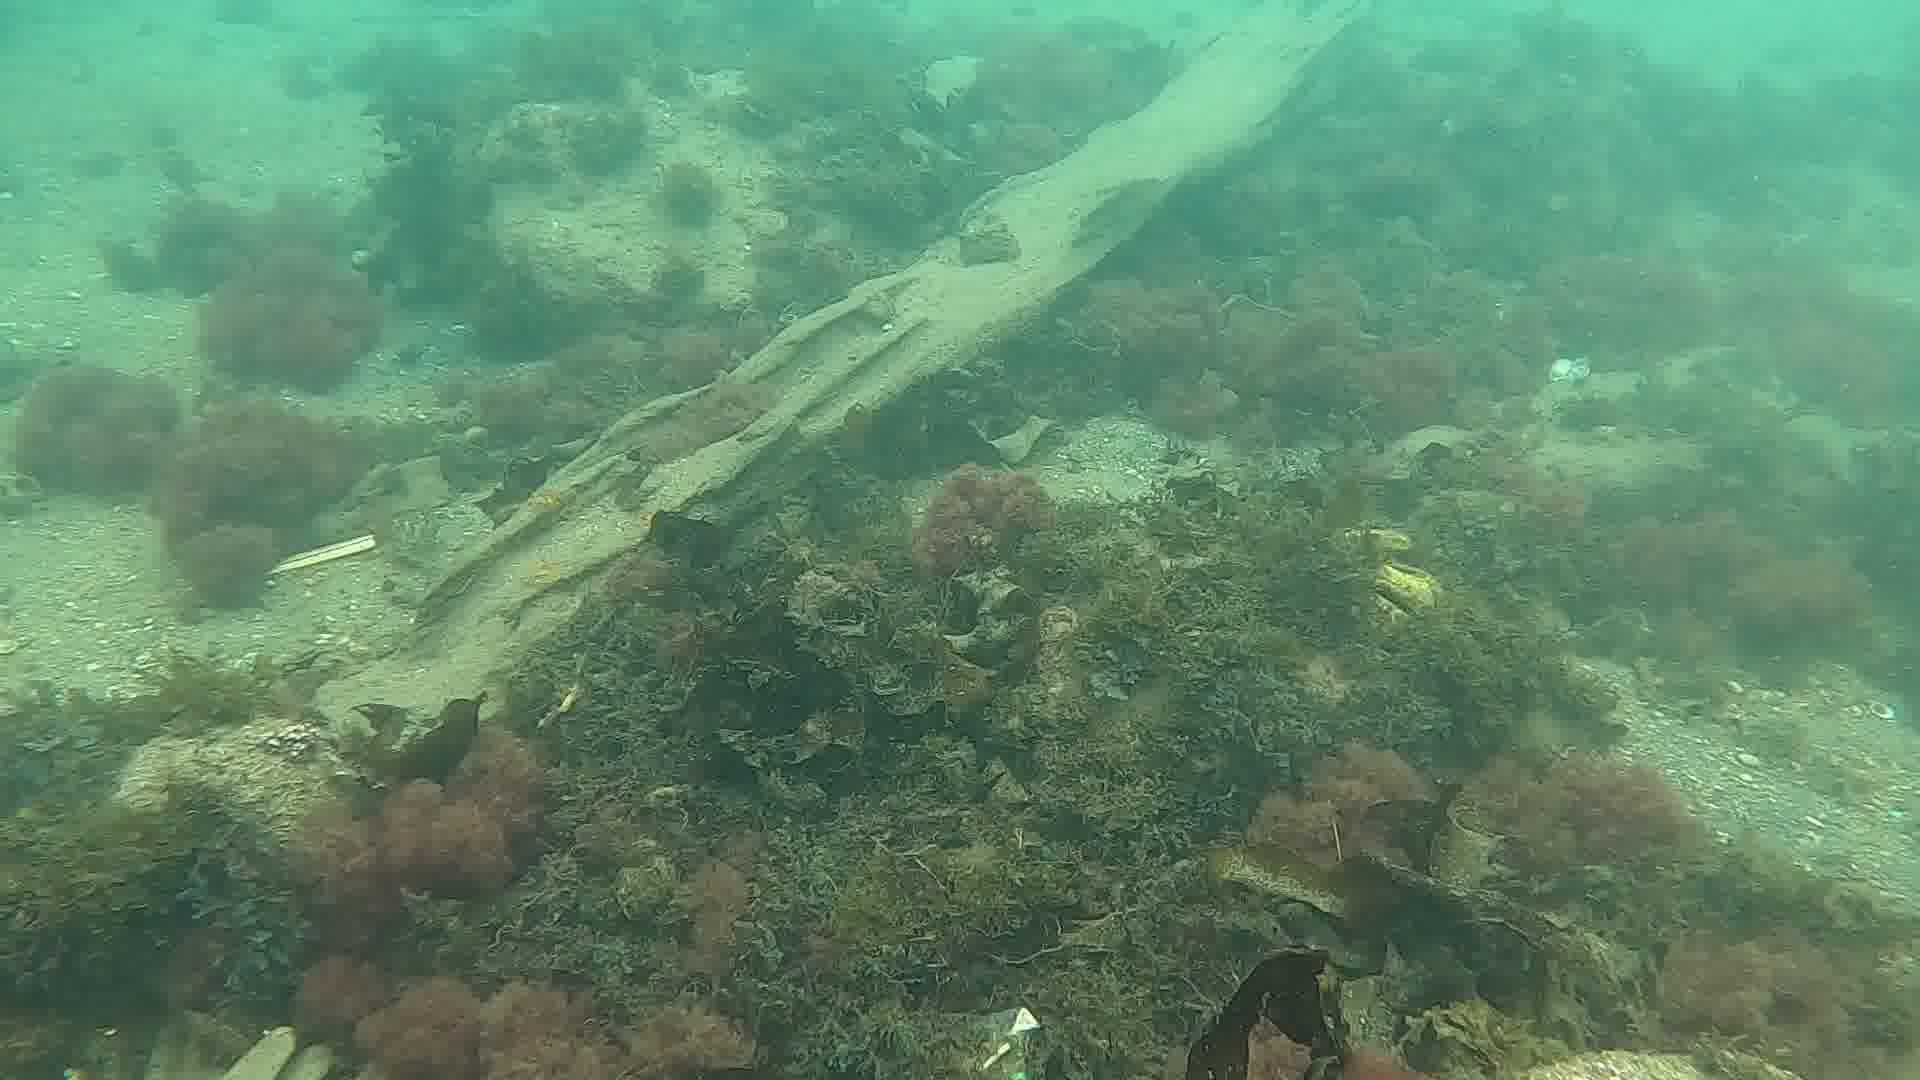wood: (314, 0, 1385, 745)
